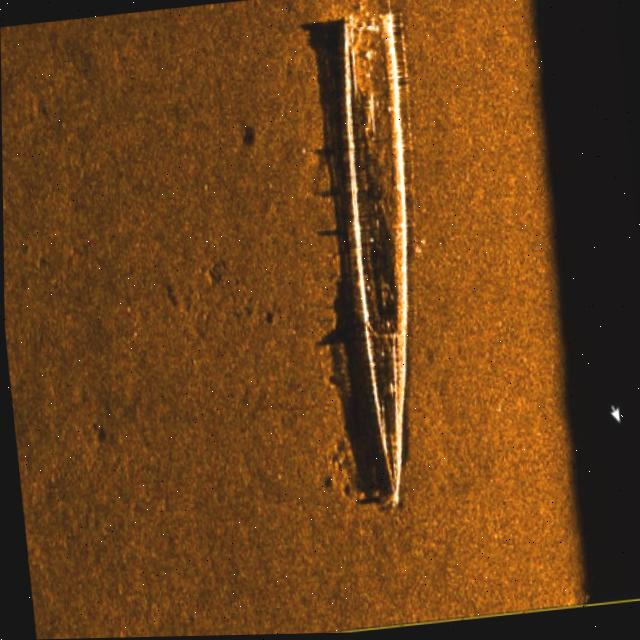shipwreck: (322, 2, 454, 519)
